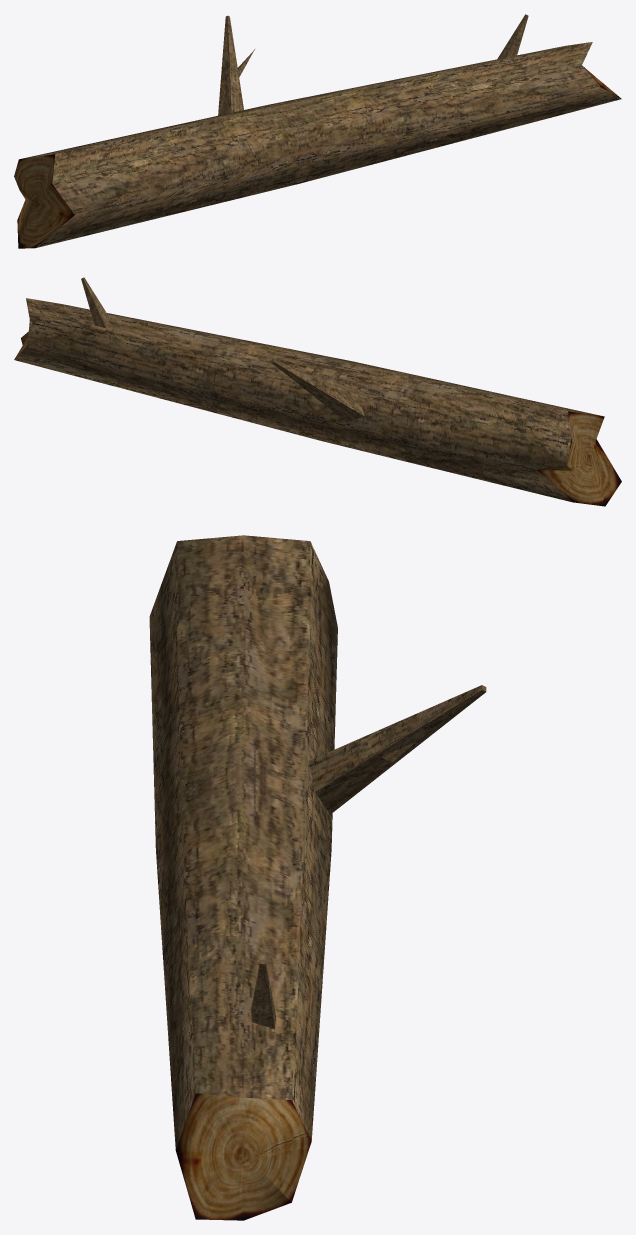
File: gen_log07.fbx
The picture shows the model from 3 angles, top to bottom: view 1: azimuth 30°, elevation 25°; view 2: azimuth 150°, elevation 25°; view 3: azimuth 270°, elevation 25°; orthographic projection. The views are drawn at different scales.
Visible parts, largest first — view 1: lod_high; view 2: lod_high; view 3: lod_high.
Part boxes in pixels (x1,y1,x2,y2): lod_high: (14, 14, 621, 248); lod_high: (14, 277, 621, 506); lod_high: (149, 535, 486, 1220).
Size of the model in its own units: 1450 by 290 by 358.
1 material, 1 textured.
